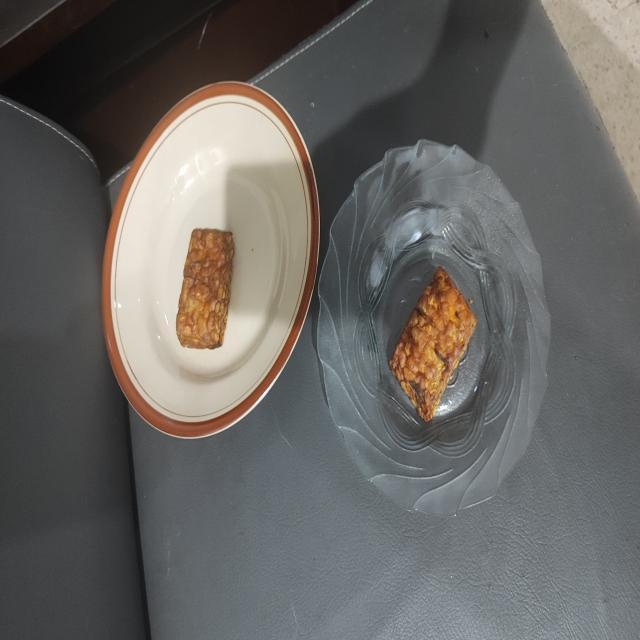tempe_goreng: (389, 268, 476, 422), (176, 229, 234, 349)
